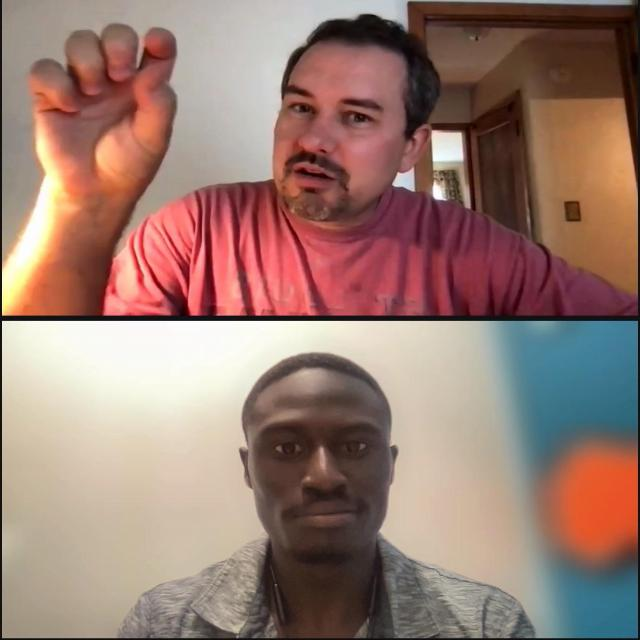face: (273, 19, 436, 222), (238, 354, 393, 564)
